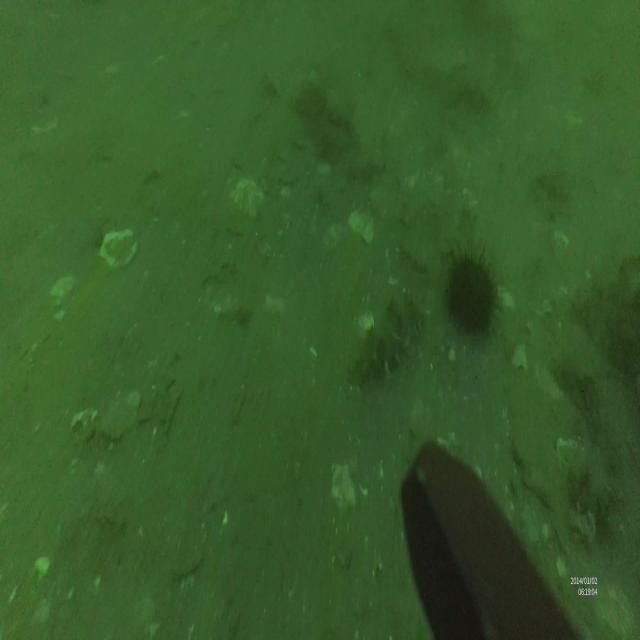echinus: (442, 251, 502, 339)
holothurian: (348, 280, 431, 399)
scallop: (230, 175, 267, 222)
